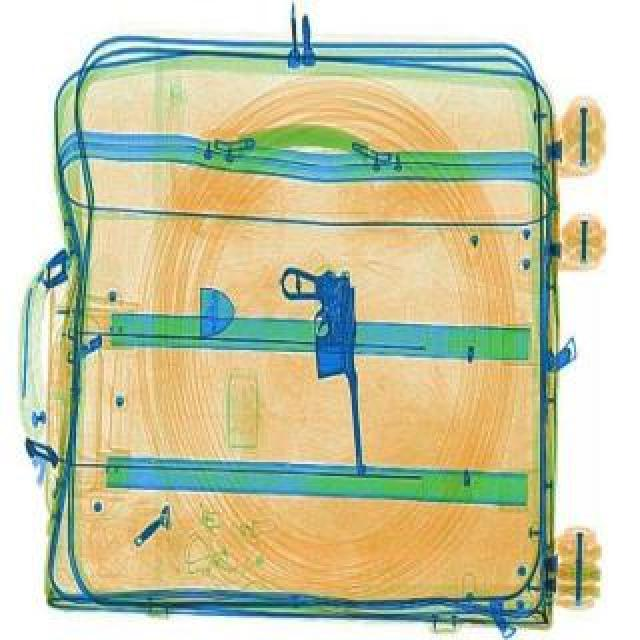gun: (278, 258, 368, 474)
